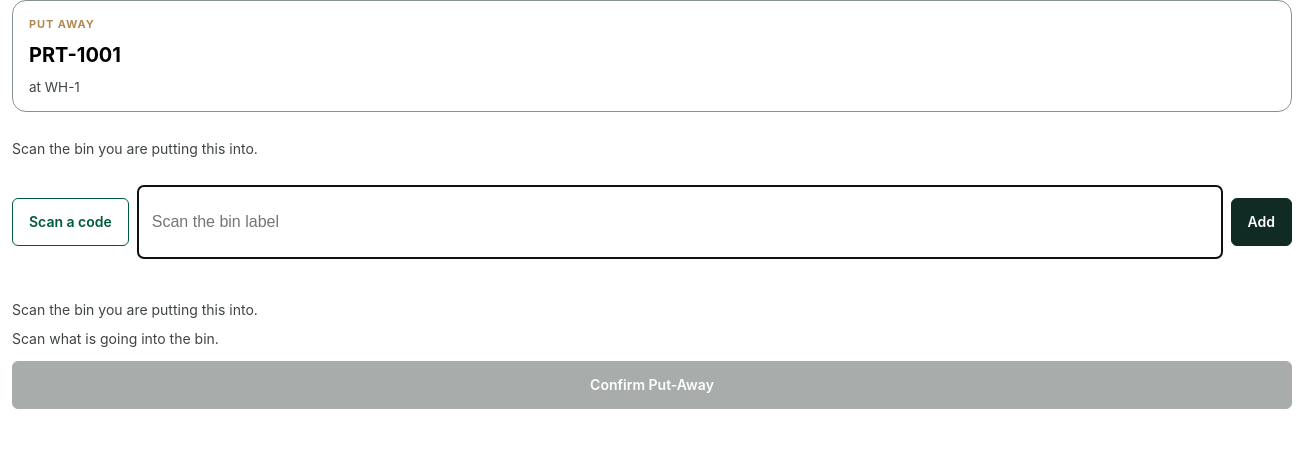
Test case: Put-away (the bin is validated before anything goes in it) › a RETIRED bin says retired, and blocks
In the field named "scan bin": (680, 222) top-left (137, 185), bottom-right (1223, 259), type "A-14"
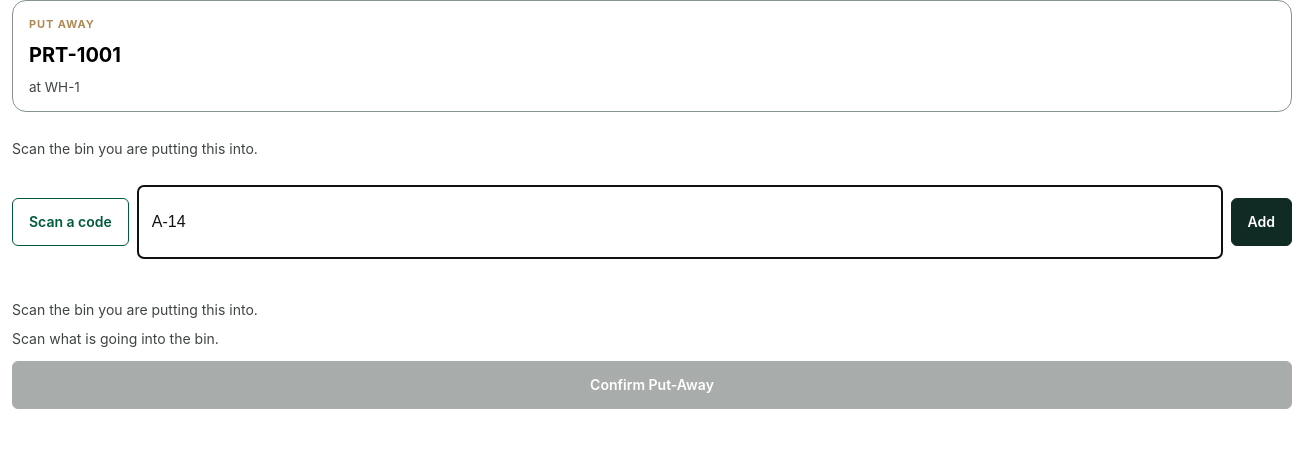
Click the button "Add": (1261, 222) top-left (1230, 198), bottom-right (1292, 246)
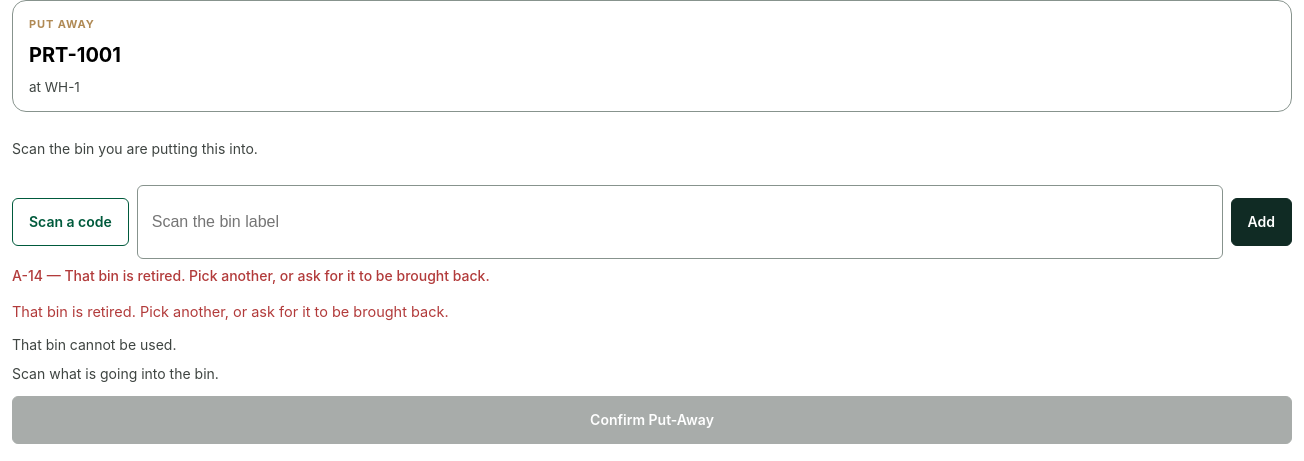
Expected: the button "Confirm Put-Away" is disabled, top-left (12, 396), bottom-right (1292, 444)
Expected: the message "That bin is retired. Pick another, or ask for it to be brought back." is shown, top-left (12, 303), bottom-right (449, 320)
